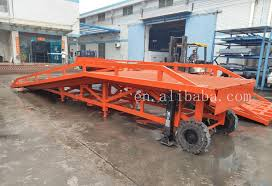Yard Ramp: (11, 56, 256, 156)
